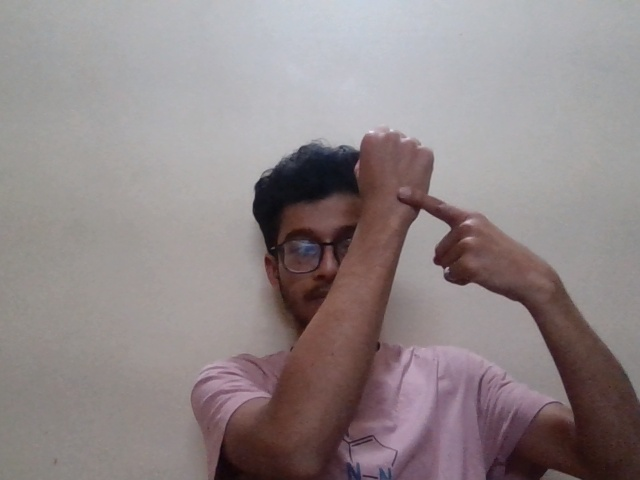time: (352, 119, 525, 318)
